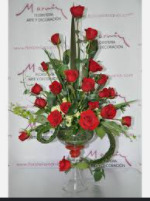RedRose: (79, 112, 101, 131), (48, 109, 68, 124), (58, 158, 75, 175), (80, 28, 102, 41), (18, 128, 31, 150), (70, 5, 89, 20), (50, 79, 67, 94), (62, 67, 81, 80), (31, 97, 48, 111), (98, 89, 121, 99), (102, 103, 113, 122), (86, 60, 103, 72), (30, 84, 44, 98), (97, 74, 110, 88), (83, 79, 96, 92), (120, 115, 134, 127), (46, 32, 59, 44), (90, 100, 102, 111), (47, 61, 55, 71)
